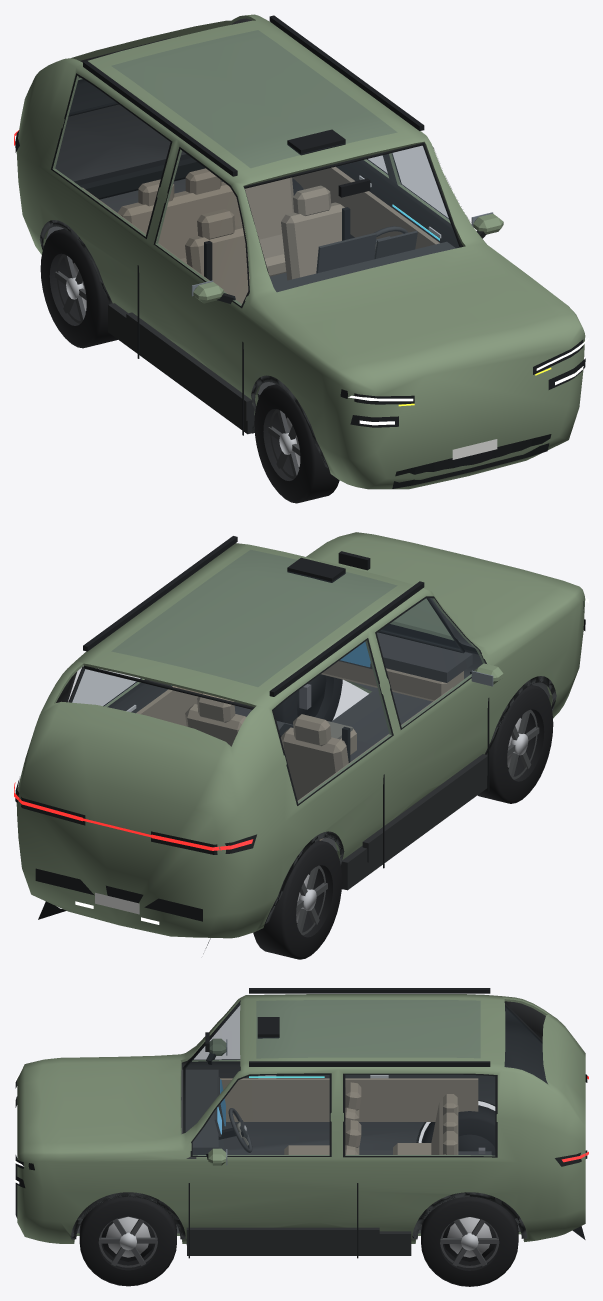
The model's file is trail-jeep.glb.
3 renders of one model, top to bottom at view 1: azimuth 30°, elevation 25°; view 2: azimuth 150°, elevation 25°; view 3: azimuth 270°, elevation 25°, orthographic. The views are drawn at different scales.
Visible parts, largest first — view 1: Body, Surface_CarRoot_Glass, Interior_CarRoot_InteriorLeather, Surface_CarRoot_BlackTrim, Surface_CarRoot_Cladding, Surface_WheelFrontR_Tyre, Surface_WheelRearR_Tyre, Interior_CarRoot_InteriorDark, Interior_CarRoot_BlackTrim, Surface_CarRoot_Paint, Surface_WheelFrontR_Rim, Surface_WheelRearR_Rim (+1 smaller); view 2: Body, Surface_CarRoot_Glass, Surface_CarRoot_BlackTrim, Interior_CarRoot_InteriorLeather, Surface_CarRoot_Cladding, Surface_WheelRearR_Tyre, Surface_WheelFrontR_Tyre, Interior_CarRoot_InteriorDark, Surface_WheelFrontL_Tyre, Surface_CarRoot_Taillight, Surface_WheelFrontR_Rim, Surface_WheelRearR_Rim (+1 smaller); view 3: Body, Surface_CarRoot_Glass, Interior_CarRoot_InteriorLeather, Surface_CarRoot_Cladding, Surface_CarRoot_BlackTrim, Surface_WheelRearL_Tyre, Surface_WheelFrontL_Tyre, Interior_CarRoot_InteriorDark, Surface_WheelRearR_Tyre, Surface_WheelFrontL_Rim, Surface_WheelRearL_Rim, WheelFrontL_BrakeDisc (+2 smaller).
Boxes of the visible parts, x1,y1,x2,y2 form: Body: [16, 14, 585, 489]; Surface_CarRoot_Glass: [53, 30, 458, 305]; Interior_CarRoot_InteriorLeather: [82, 166, 439, 303]; Surface_CarRoot_BlackTrim: [15, 15, 585, 488]; Surface_CarRoot_Cladding: [39, 220, 327, 467]; Surface_WheelFrontR_Tyre: [254, 384, 339, 503]; Surface_WheelRearR_Tyre: [40, 229, 117, 348]; Interior_CarRoot_InteriorDark: [249, 230, 455, 398]; Interior_CarRoot_BlackTrim: [204, 178, 370, 280]; Surface_CarRoot_Paint: [193, 213, 503, 303]; Surface_WheelFrontR_Rim: [268, 409, 300, 478]; Surface_WheelRearR_Rim: [55, 254, 86, 323]; Body: [16, 532, 585, 938]; Surface_CarRoot_Glass: [69, 550, 484, 803]; Surface_CarRoot_BlackTrim: [15, 536, 585, 953]; Interior_CarRoot_InteriorLeather: [136, 661, 463, 840]; Surface_CarRoot_Cladding: [265, 676, 556, 923]; Surface_WheelRearR_Tyre: [253, 840, 342, 959]; Surface_WheelFrontR_Tyre: [477, 684, 553, 803]; Interior_CarRoot_InteriorDark: [276, 632, 472, 852]; Surface_WheelFrontL_Tyre: [273, 674, 342, 724]; Surface_CarRoot_Taillight: [14, 782, 253, 850]; Surface_WheelFrontR_Rim: [507, 709, 539, 779]; Surface_WheelRearR_Rim: [296, 865, 327, 935]; Body: [17, 994, 585, 1243]; Surface_CarRoot_Glass: [185, 1000, 547, 1155]; Interior_CarRoot_InteriorLeather: [220, 1078, 478, 1154]; Surface_CarRoot_Cladding: [71, 1100, 527, 1255]; Surface_CarRoot_BlackTrim: [15, 988, 587, 1258]; Surface_WheelRearL_Tyre: [421, 1197, 518, 1286]; Surface_WheelFrontL_Tyre: [79, 1197, 176, 1286]; Interior_CarRoot_InteriorDark: [181, 1069, 491, 1229]; Surface_WheelRearR_Tyre: [421, 1105, 495, 1155]; Surface_WheelFrontL_Rim: [98, 1218, 157, 1267]; Surface_WheelRearL_Rim: [440, 1219, 499, 1267]; WheelFrontL_BrakeDisc: [106, 1216, 150, 1257].
Bounding box in the file's own units: 2.32 × 1.94 × 4.72.
